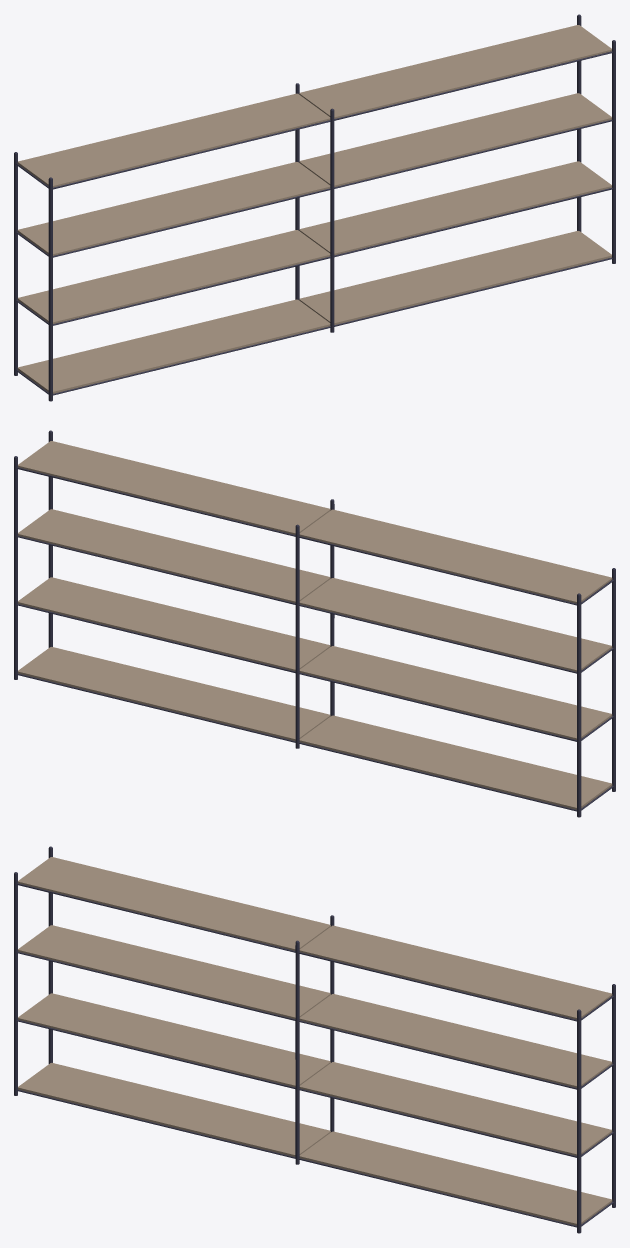
Rendered from Blank Shelves Coloured.fbx.
3 renders of one model, top to bottom at view 1: azimuth 30°, elevation 25°; view 2: azimuth 150°, elevation 25°; view 3: azimuth 330°, elevation 25°, orthographic.
Parts seen in each view (by area): view 1: pCube9; view 2: pCube9; view 3: pCube9.
Boxes of the visible parts, x1,y1,x2,y2 form: pCube9: [14, 14, 615, 401]; pCube9: [14, 430, 615, 817]; pCube9: [14, 846, 615, 1233].
Size of the model in its own units: 90.24 by 33.96 by 10.17.
